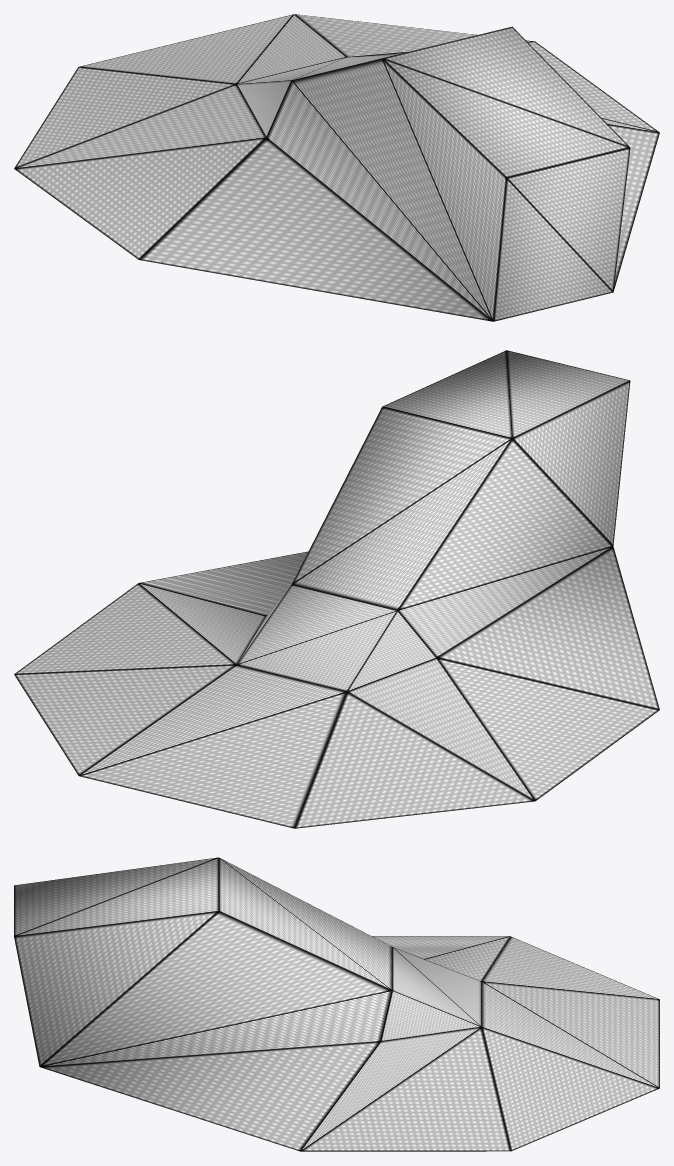
Rendered from SNEAKRAIL_COLLISION.obj.
The picture shows the model from 3 angles, top to bottom: view 1: azimuth 30°, elevation 25°; view 2: azimuth 150°, elevation 25°; view 3: azimuth 270°, elevation 25°; orthographic projection. The views are drawn at different scales.
Size of the model in its own units: 46.21 by 16 by 58.64.
1 material, 1 textured.
